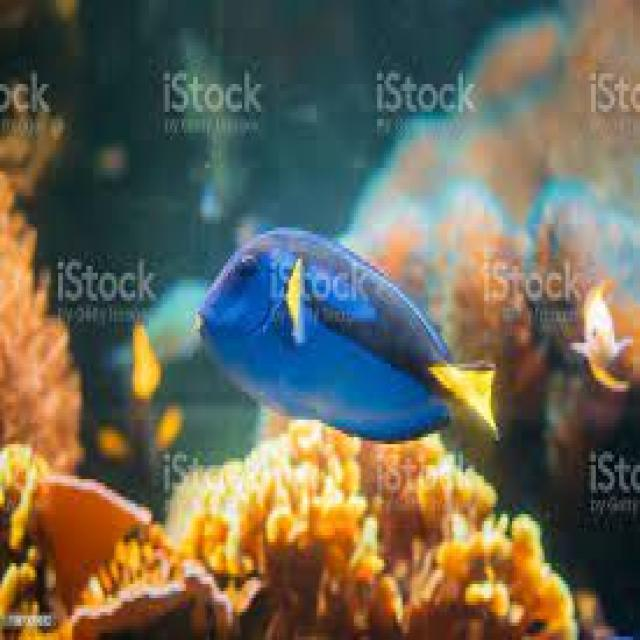BlueTang: (192, 225, 501, 442)
